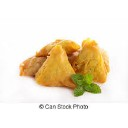samosa: (36, 45, 77, 87), (77, 35, 110, 83)
